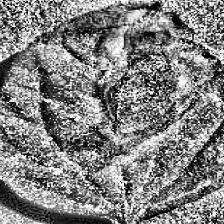disease: (0, 0, 224, 221)
